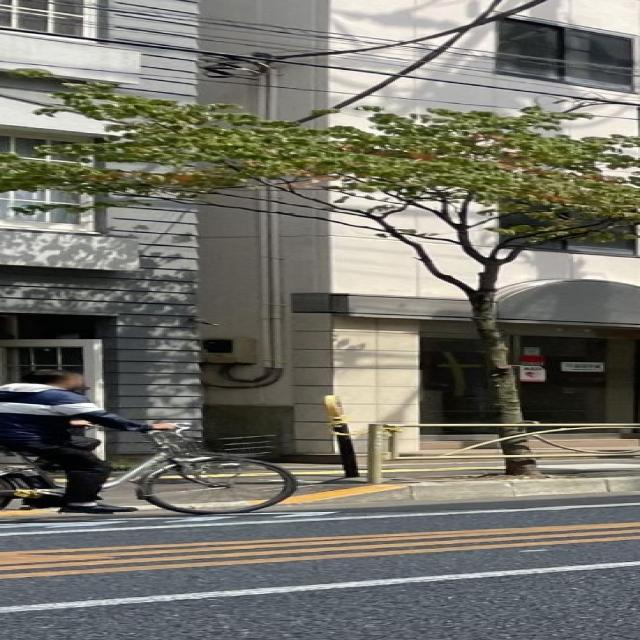dogwood: (0, 67, 640, 476)
